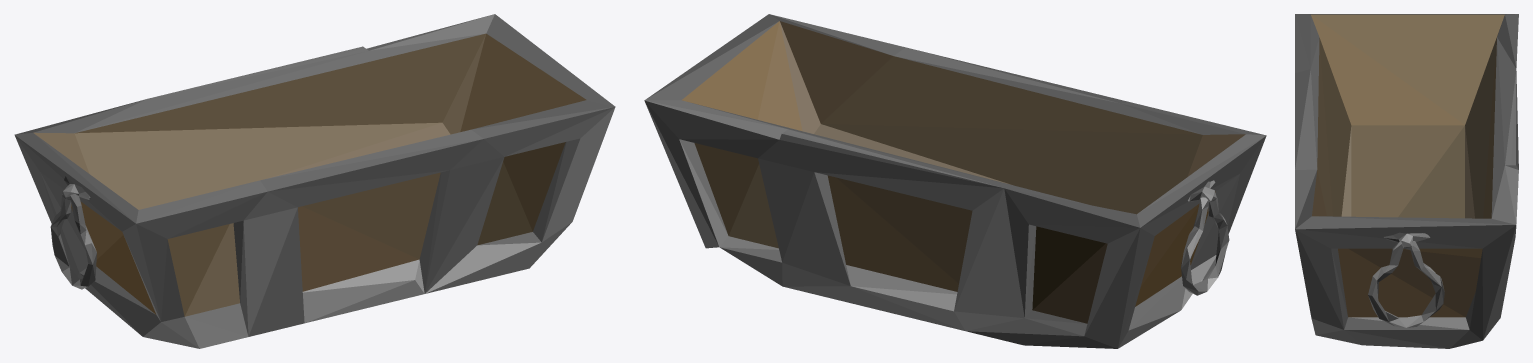
Rendered from Chest-D_Bottom.fbx.
The picture shows the model from 3 angles, left to right: view 1: azimuth 30°, elevation 25°; view 2: azimuth 150°, elevation 25°; view 3: azimuth 270°, elevation 25°; orthographic projection. The views are drawn at different scales.
Parts seen in each view (by area): view 1: Chest-D_Bottom; view 2: Chest-D_Bottom; view 3: Chest-D_Bottom.
Part boxes in pixels (bbox=[...]): Chest-D_Bottom: bbox=[14, 14, 615, 348]; Chest-D_Bottom: bbox=[644, 14, 1266, 348]; Chest-D_Bottom: bbox=[1295, 14, 1518, 348].
Bounding box in the file's own units: 162 × 48.29 × 68.07.
